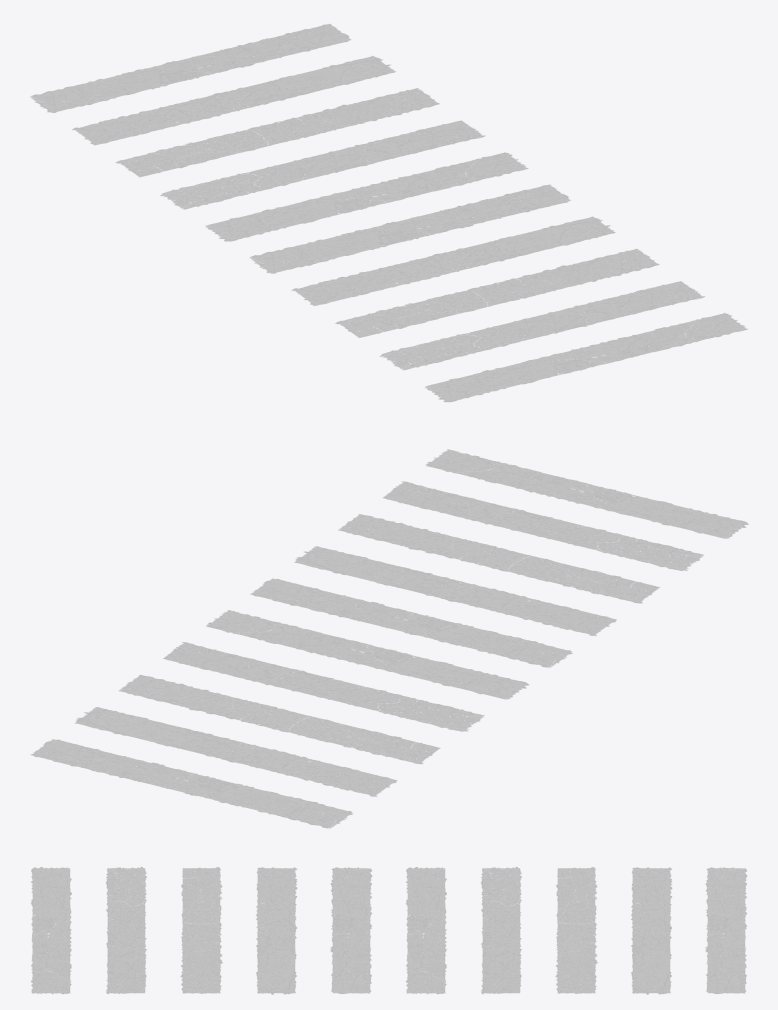
File: Decal_Crosswalk_Wide.glb
The picture shows the model from 3 angles, top to bottom: view 1: azimuth 30°, elevation 25°; view 2: azimuth 150°, elevation 25°; view 3: azimuth 270°, elevation 25°; orthographic projection. The views are drawn at different scales.
Visible parts, largest first — view 1: Decal_Crosswalk_Wide; view 2: Decal_Crosswalk_Wide; view 3: Decal_Crosswalk_Wide.
Part boxes in pixels (left/top/right/bottom): Decal_Crosswalk_Wide: left=30, top=24, right=747, bottom=402; Decal_Crosswalk_Wide: left=31, top=449, right=748, bottom=828; Decal_Crosswalk_Wide: left=31, top=867, right=746, bottom=994.
Bounding box in the file's own units: 4.67 × 0 × 11.42.
1 material, 1 textured.
